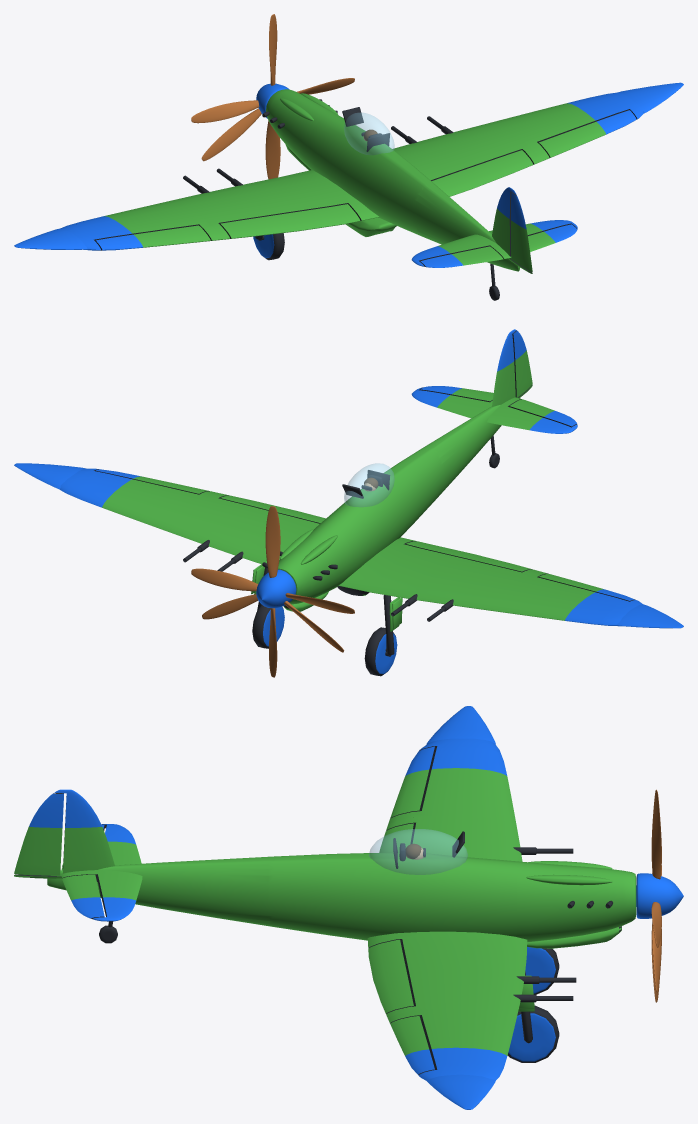
Rendered from hurricane.glb.
The picture shows the model from 3 angles, top to bottom: view 1: azimuth 30°, elevation 25°; view 2: azimuth 150°, elevation 25°; view 3: azimuth 270°, elevation 25°; orthographic projection. The views are drawn at different scales.
Parts seen in each view (by area): view 1: Fuselage, WingL, WingR, WingTipR, WingTipL, Tail, PropellerMesh4, FlapL, Engine, FlapR, AileronL, CanopyMesh (+12 smaller); view 2: Fuselage, WingL, WingR, WingTipR, WingTipL, Engine, PropellerMesh4, Tail, PropellerMesh, GearL_heavy, CanopyMesh, StabiliserL (+13 smaller); view 3: Fuselage, WingR, Tail, Engine, WingTipL, WingTipR, WingL, CanopyMesh, Fin, Rudder, GearR_heavy, FlapR (+13 smaller).
Part boxes in pixels (x1,y1,x2,y2): Fuselage: (304,114,435,236); WingL: (172,172,365,239); WingR: (392,122,541,180); WingTipR: (491,92,643,161); WingTipL: (61,200,221,250); Tail: (414,184,520,271); PropellerMesh4: (191,14,354,179); FlapL: (220,204,360,238); Engine: (262,89,338,170); FlapR: (431,150,533,196); AileronL: (95,225,210,250); CanopyMesh: (344,112,394,154); Fuselage: (316,446,444,595); WingL: (349,540,538,610); WingR: (170,493,319,564); WingTipR: (59,468,218,532); WingTipL: (489,571,642,626); Engine: (262,523,351,604); PropellerMesh4: (191,506,354,677); Tail: (425,397,520,493); PropellerMesh: (202,565,344,652); GearL_heavy: (364,595,402,676); CanopyMesh: (344,463,394,506); StabiliserL: (487,398,577,433); Fuselage: (268,843,527,945); WingR: (368,933,526,1018); Tail: (47,856,268,925); Engine: (517,861,636,942); WingTipL: (388,738,516,825); WingTipR: (388,1008,516,1080); WingL: (386,815,522,861); CanopyMesh: (369,829,467,874); Fin: (14,789,114,878); Rudder: (14,793,63,875); GearR_heavy: (507,971,559,1062); FlapR: (368,939,413,1013).
Size of the model in its own units: 14.02 by 3.85 by 9.84.
